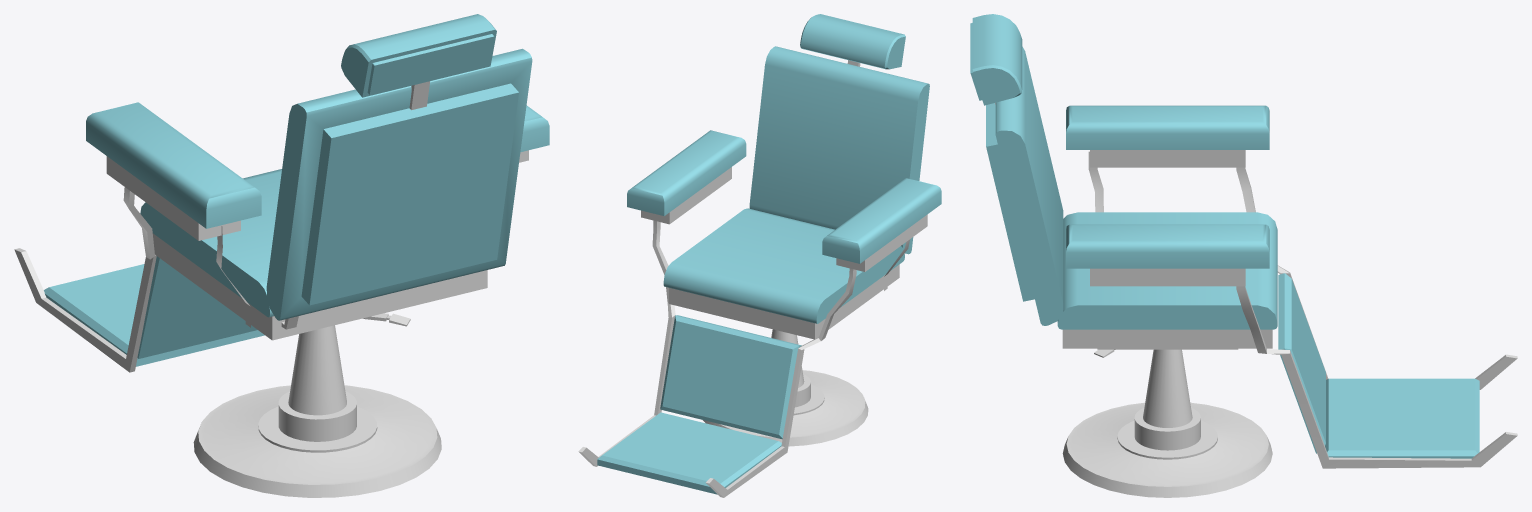
The model's file is Barbershop Chair 02.fbx.
3 views of the same model, side by side, from view 1: azimuth 30°, elevation 25°; view 2: azimuth 150°, elevation 25°; view 3: azimuth 270°, elevation 25° (orthographic). The views are drawn at different scales.
Parts seen in each view (by area): view 1: Barber Chair; view 2: Barber Chair; view 3: Barber Chair.
Part boxes in pixels (x1,y1,x2,y2): Barber Chair: [14, 14, 549, 497]; Barber Chair: [578, 14, 941, 497]; Barber Chair: [970, 14, 1517, 497].
Bounding box in the file's own units: 192 × 262 × 314.
